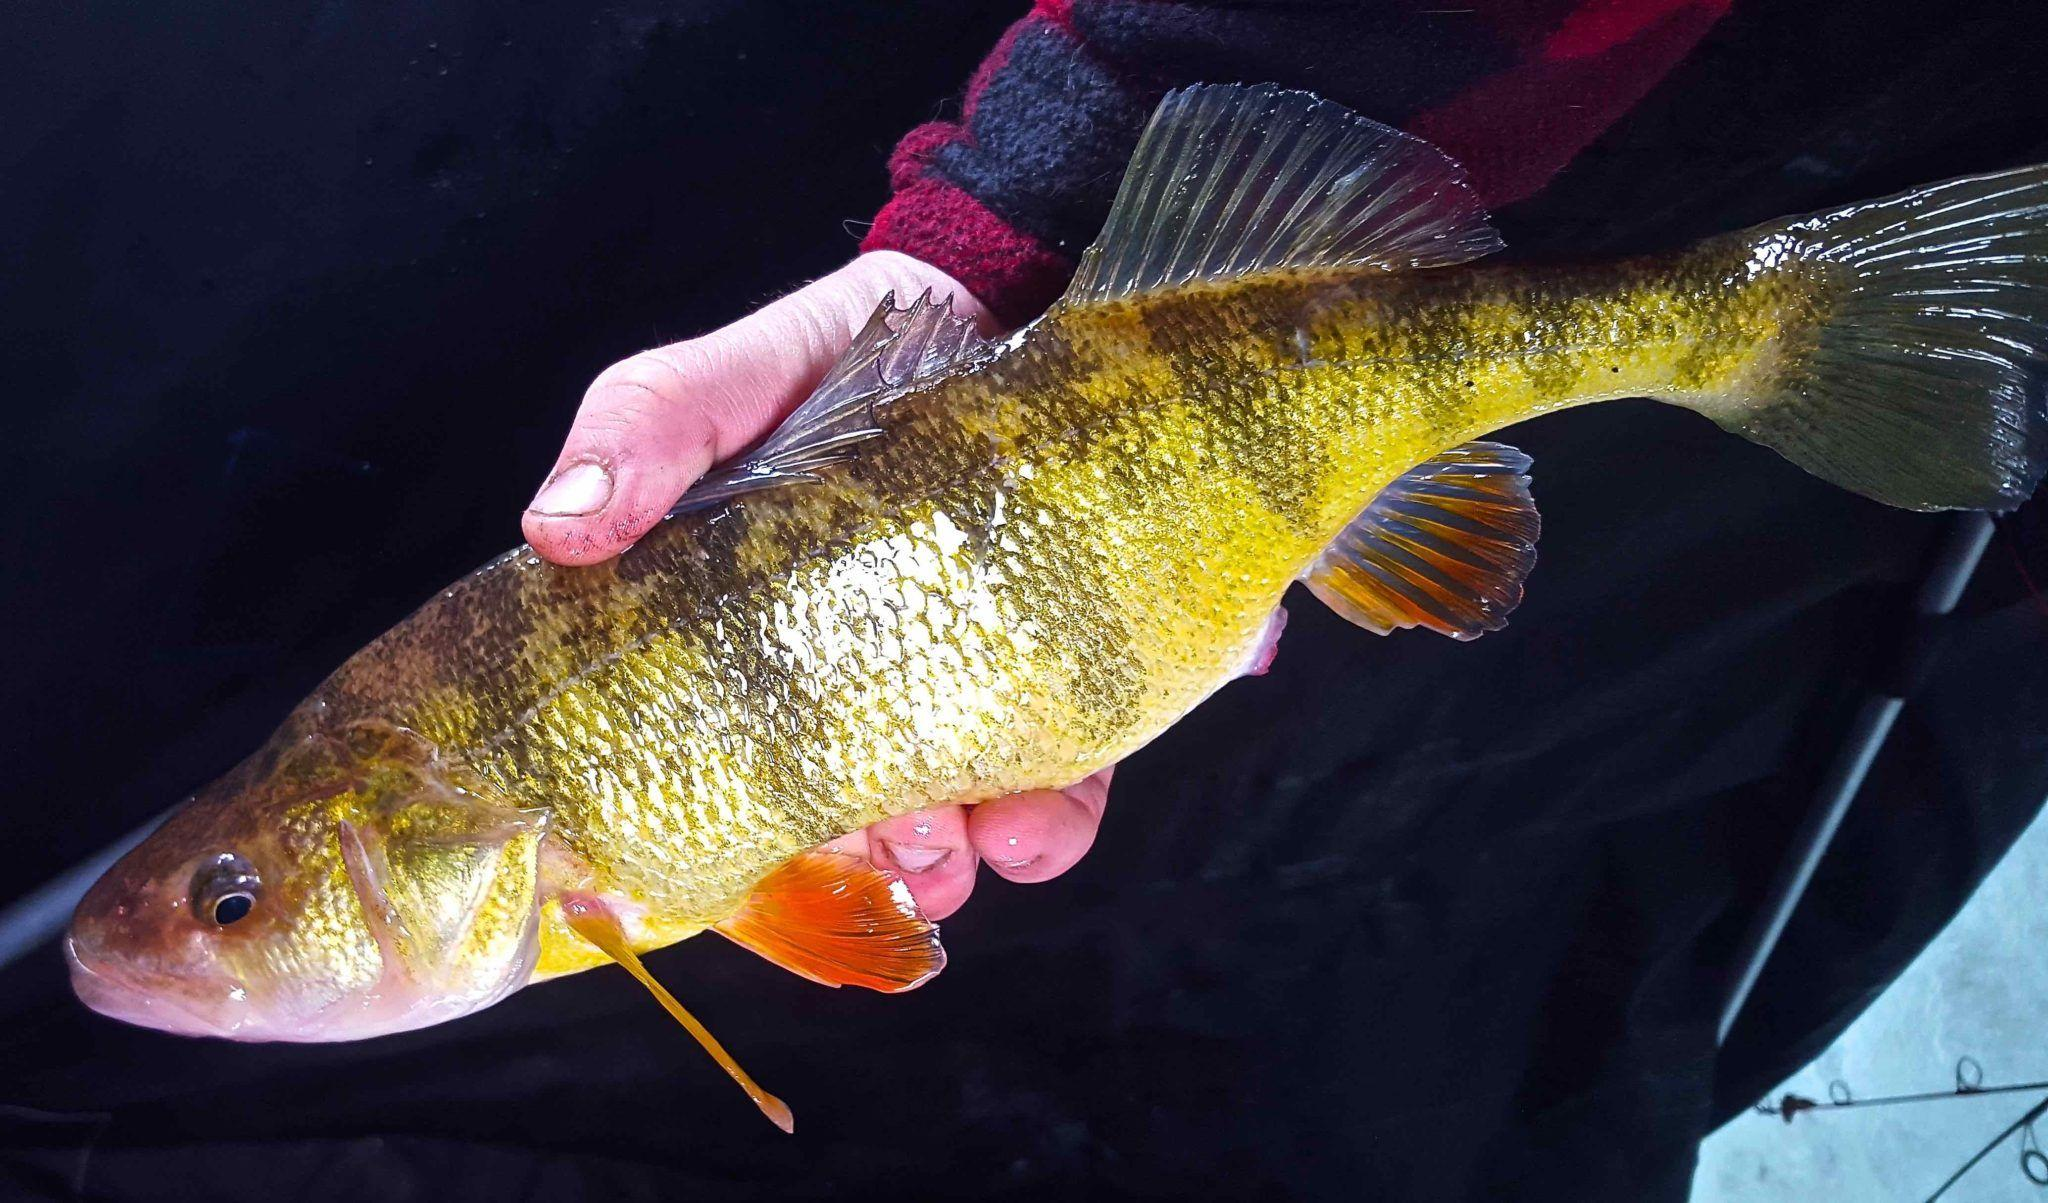Perch: (71, 77, 2048, 1047)
